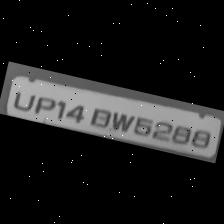1: (50, 92, 68, 120)
2: (151, 116, 174, 142)
4: (66, 97, 88, 122)
5: (130, 111, 156, 138)
8: (188, 124, 214, 148), (169, 120, 194, 144)
D: (85, 104, 112, 130)
P: (32, 92, 60, 118)
U: (8, 85, 37, 112)
W: (109, 108, 135, 134)
